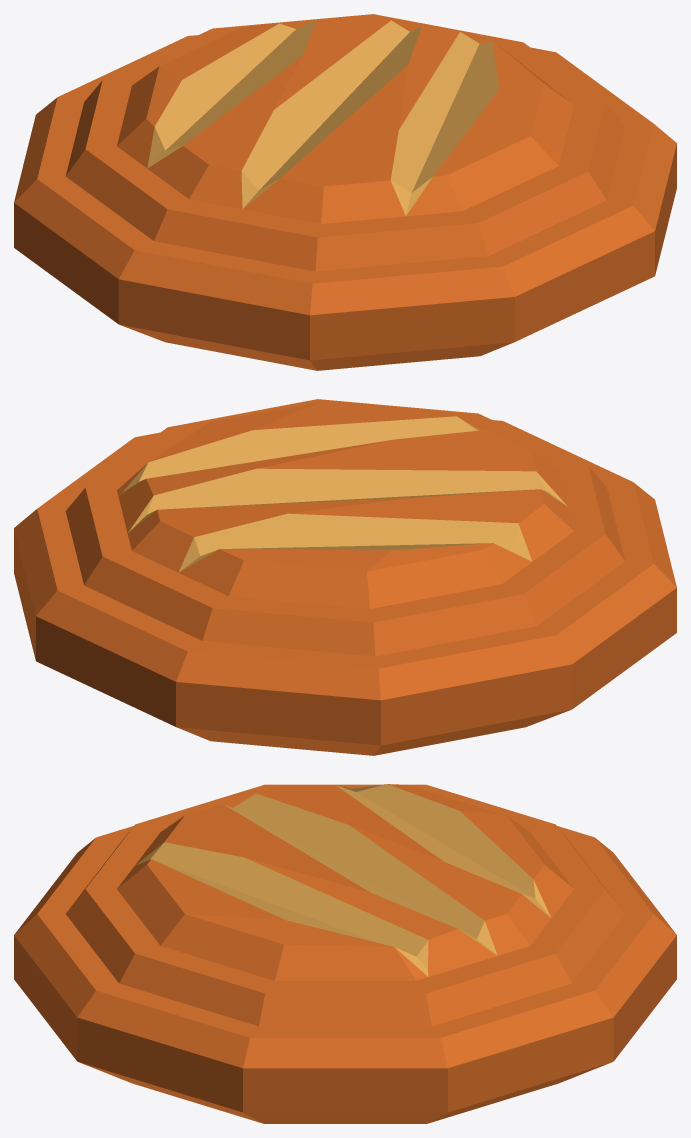
The model's file is bread_LOW.fbx.
3 renders of one model, top to bottom at view 1: azimuth 30°, elevation 25°; view 2: azimuth 150°, elevation 25°; view 3: azimuth 270°, elevation 25°, orthographic. The views are drawn at different scales.
Parts seen in each view (by area): view 1: dread; view 2: dread; view 3: dread.
Part boxes in pixels (left/top/right/bottom): dread: left=14, top=14, right=676, bottom=370; dread: left=14, top=399, right=676, bottom=755; dread: left=14, top=784, right=676, bottom=1123.
Bounding box in the file's own units: 40.25 × 11.37 × 42.32.
